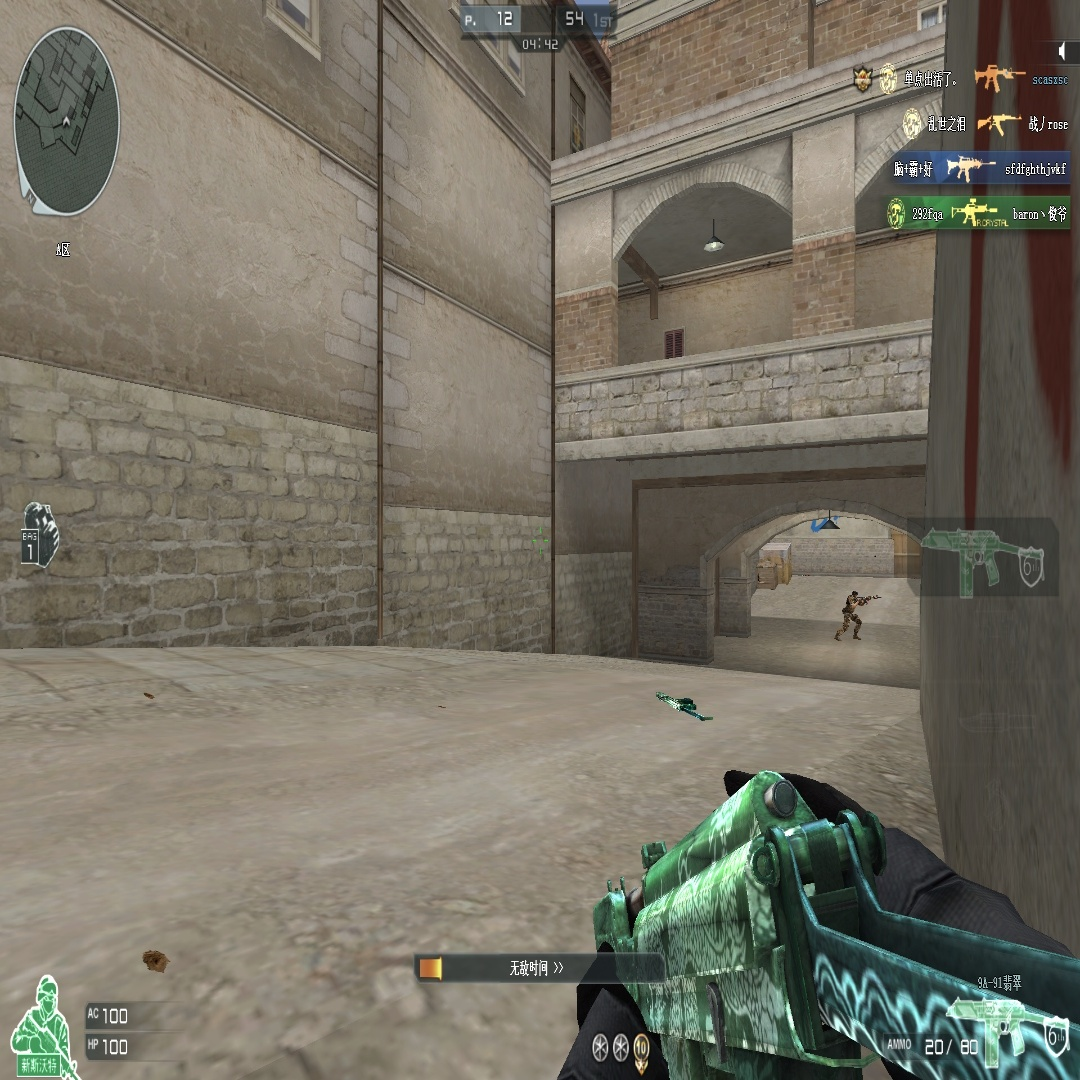head: (852, 590, 859, 598)
p: (836, 591, 863, 640)
